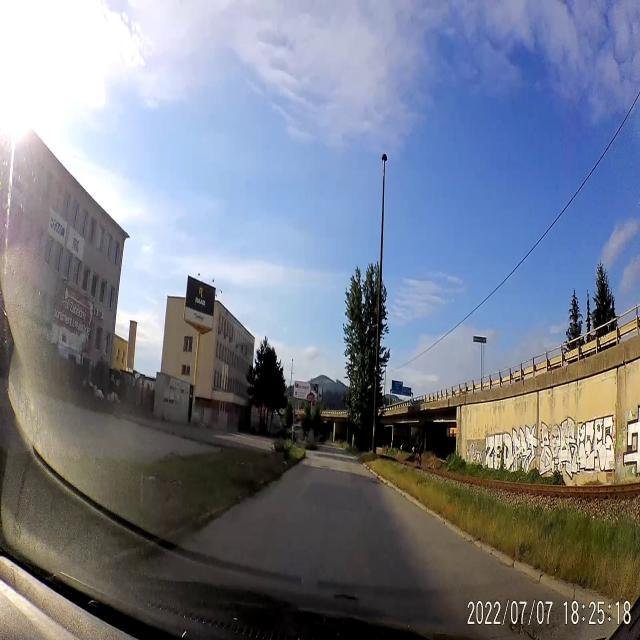Pothole: (506, 597, 564, 640)
